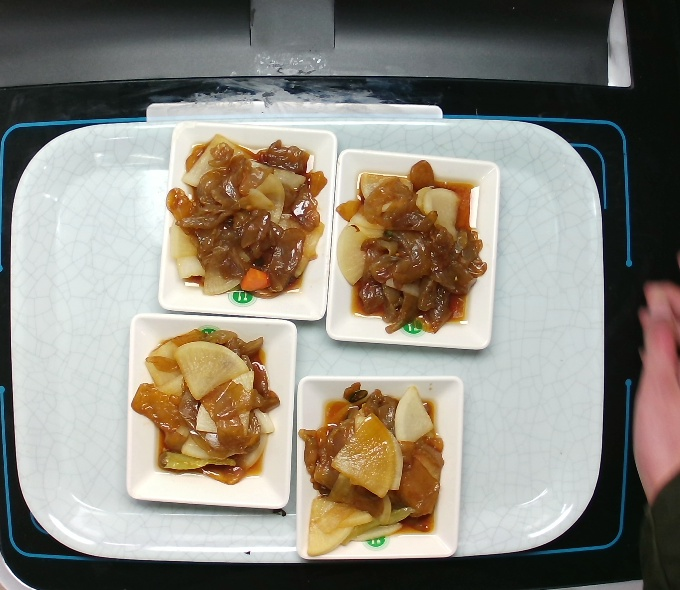wcq-HaiZheTou: (159, 128, 334, 302), (291, 377, 447, 566), (329, 157, 488, 338), (122, 322, 284, 489)
